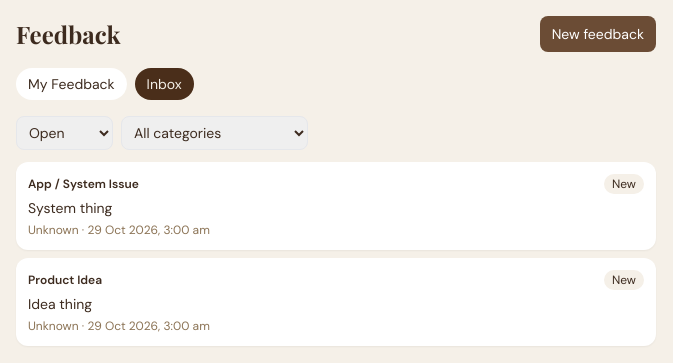
it: FeedbackPage › Inbox category filter hides other categories
Expected: the text "System thing" is shown, [28,199,112,217]
Select "Product Idea" in the dropdown named "Filter by category" at (214, 133), box [121,116,308,150]
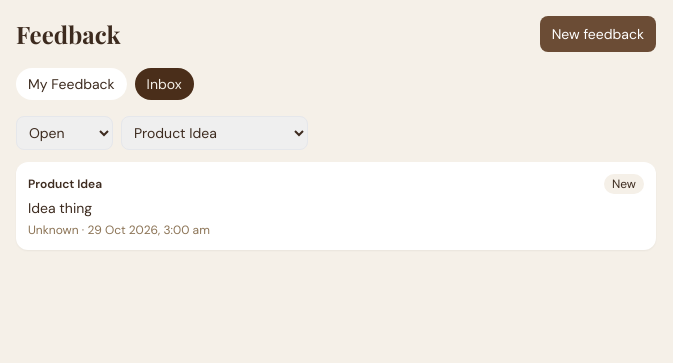
Expected: the text "Idea thing" is shown, [28,199,92,217]
Now the button "System thing" is gone
